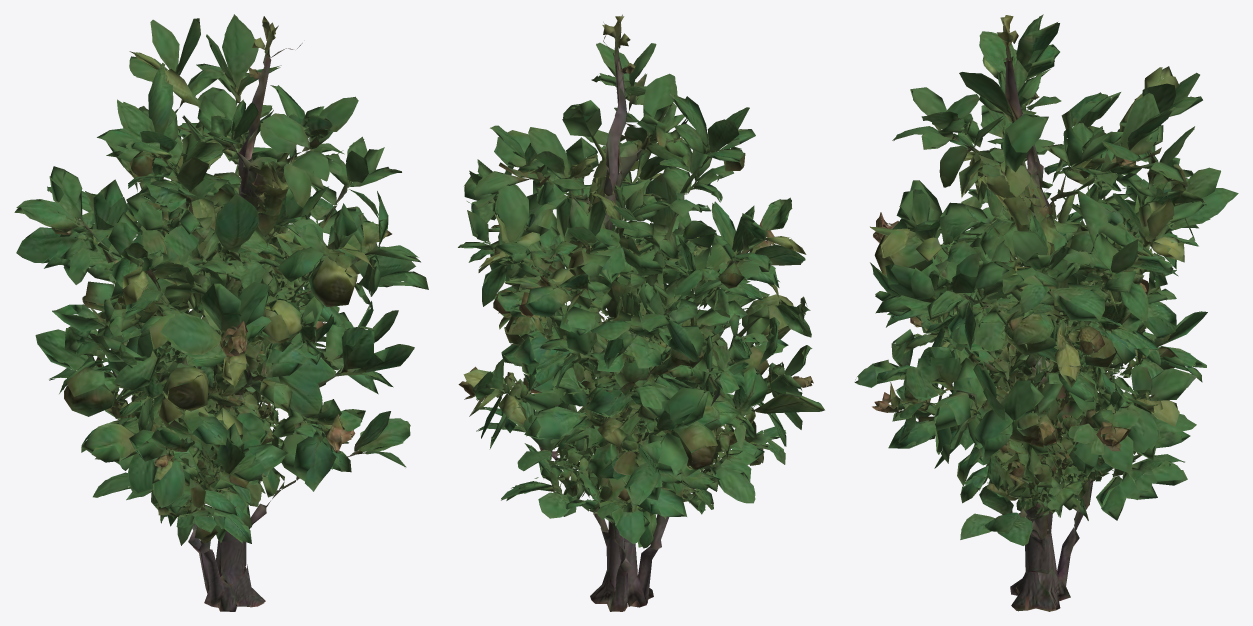
Rendered from bush-berries-b-empty.glb.
3 renders of one model, left to right at view 1: azimuth 30°, elevation 25°; view 2: azimuth 150°, elevation 25°; view 3: azimuth 270°, elevation 25°, orthographic. The views are drawn at different scales.
Parts seen in each view (by area): view 1: bush_berries_b; view 2: bush_berries_b; view 3: bush_berries_b.
Part boxes in pixels (x1,y1,x2,y2): bush_berries_b: [14, 14, 428, 611]; bush_berries_b: [458, 14, 824, 611]; bush_berries_b: [854, 14, 1238, 611].
Bounding box in the file's own units: 1.12 × 1.8 × 1.06.
Materials: 1 (1 with a texture image).
